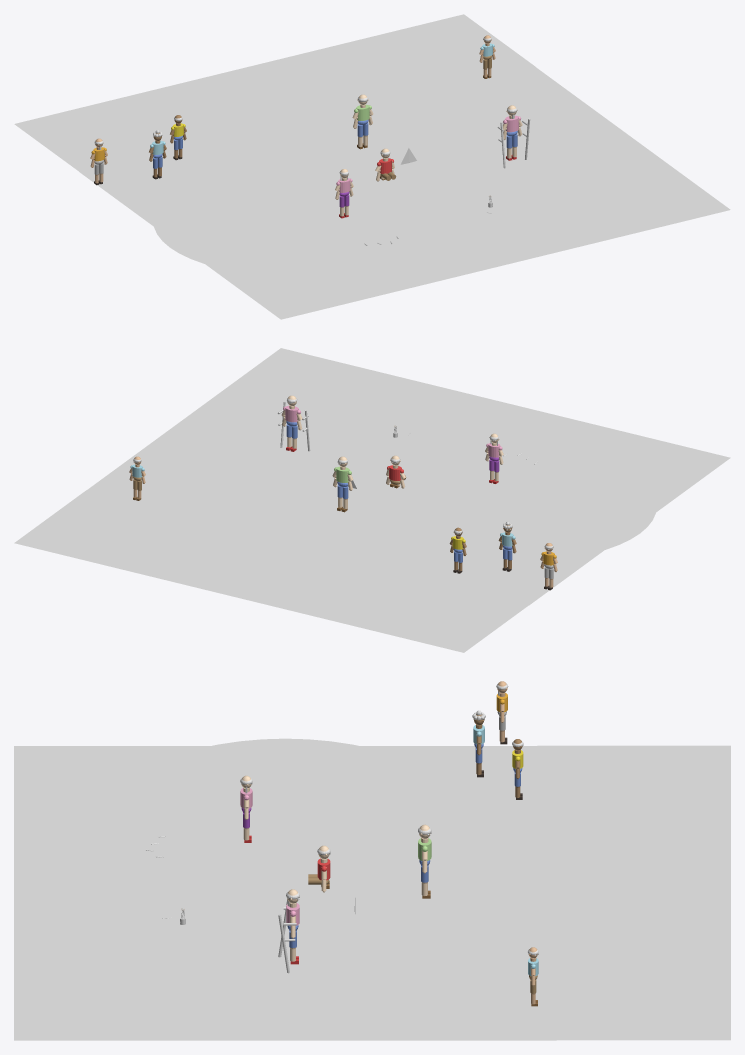
File: ZonaJuegos.glb
The picture shows the model from 3 angles, top to bottom: view 1: azimuth 30°, elevation 25°; view 2: azimuth 150°, elevation 25°; view 3: azimuth 270°, elevation 25°; orthographic projection. The views are drawn at different scales.
Visible parts, largest first — view 1: Area_Amarilla, Piso, Piso_Verde, Lienzo, Marco, Rio; view 2: Area_Amarilla, Piso_Verde, Piso, Lienzo, Marco, Rio; view 3: Area_Amarilla, Piso_Verde, Piso, Lienzo, Marco, Rio, Plane.001, Hoja.
Boxes of the visible parts, left/top/right/bottom form: Area_Amarilla: left=153, top=115, right=606, bottom=277; Piso: left=80, top=67, right=730, bottom=319; Piso_Verde: left=14, top=14, right=535, bottom=176; Lienzo: left=285, top=152, right=467, bottom=223; Marco: left=279, top=149, right=472, bottom=227; Rio: left=337, top=168, right=419, bottom=199; Area_Amarilla: left=203, top=401, right=656, bottom=563; Piso_Verde: left=14, top=490, right=535, bottom=652; Piso: left=86, top=348, right=730, bottom=605; Lienzo: left=325, top=450, right=506, bottom=522; Marco: left=319, top=448, right=513, bottom=525; Rio: left=390, top=467, right=426, bottom=506; Area_Amarilla: left=52, top=738, right=517, bottom=1013; Piso_Verde: left=537, top=745, right=730, bottom=1040; Piso: left=14, top=746, right=556, bottom=1040; Lienzo: left=231, top=837, right=385, bottom=918; Marco: left=225, top=835, right=391, bottom=922; Rio: left=254, top=866, right=378, bottom=894; Plane.001: left=470, top=957, right=672, bottom=959; Hoja: left=327, top=848, right=368, bottom=866.
Size of the model in its own units: 9.2 by 1.18 by 9.25.
